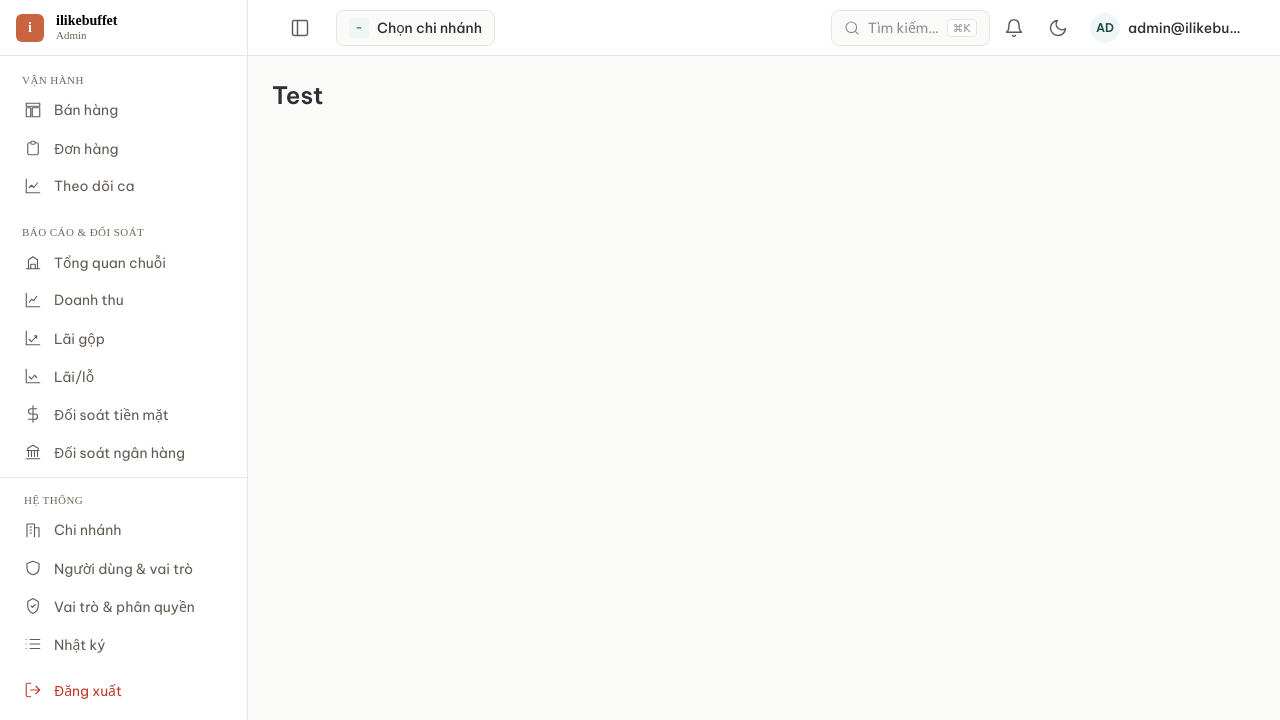
Test case: User menu › opens on click and shows username
The width and height of the screenshot is (1280, 720).
Step 1. Click the button with aria-label "Menu tài khoản" → coordinates (1169, 28), box [1082, 8, 1256, 48]
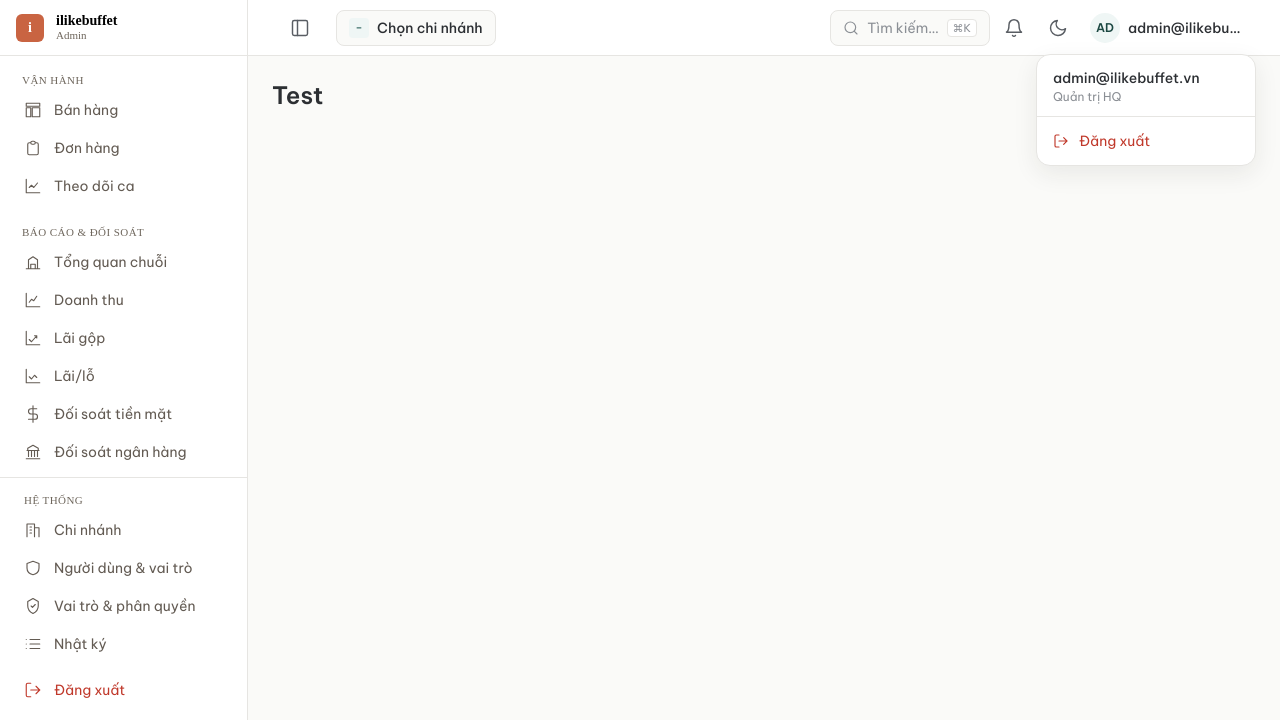
Now the dialog named "Menu tài khoản" is shown, box [1036, 54, 1256, 166]
